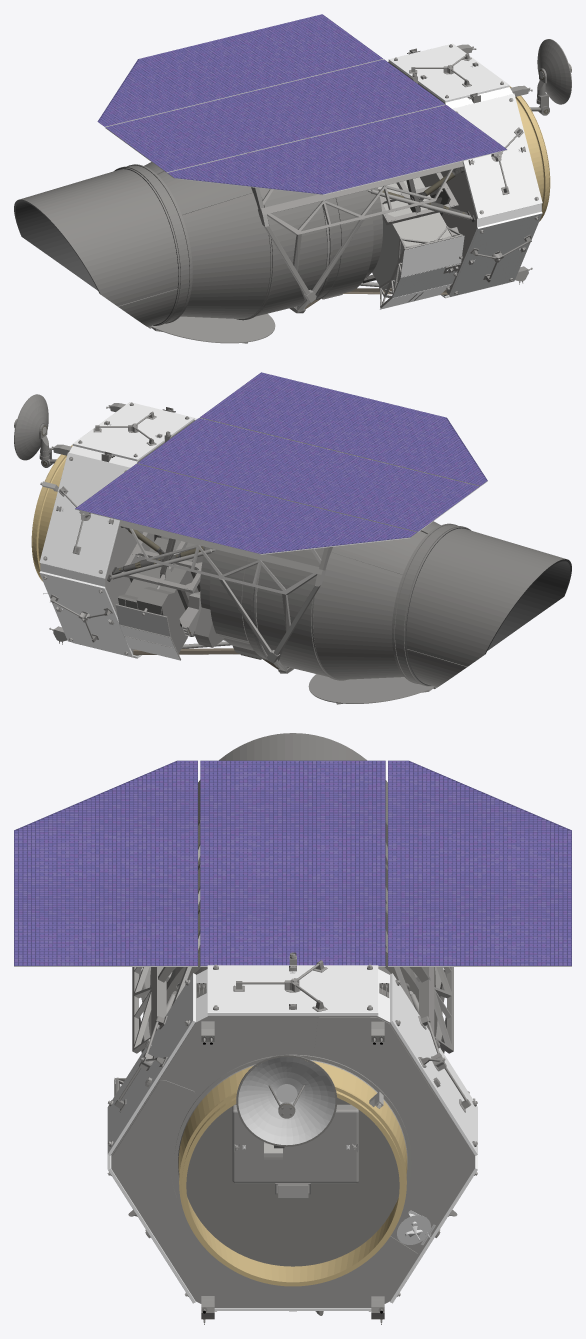
The model's file is Nancy Grace Roman Space Telescope (A).glb.
3 renders of one model, top to bottom at view 1: azimuth 30°, elevation 25°; view 2: azimuth 150°, elevation 25°; view 3: azimuth 270°, elevation 25°, orthographic. The views are drawn at different scales.
Parts seen in each view (by area): view 1: afta2015-maintube; view 2: afta2015-maintube; view 3: afta2015-maintube.
Part boxes in pixels (left/top/right/bottom): afta2015-maintube: left=14, top=14, right=571, bottom=343; afta2015-maintube: left=14, top=372, right=571, bottom=704; afta2015-maintube: left=14, top=733, right=571, bottom=1324.
Size of the model in its own units: 344 by 131 by 207.
